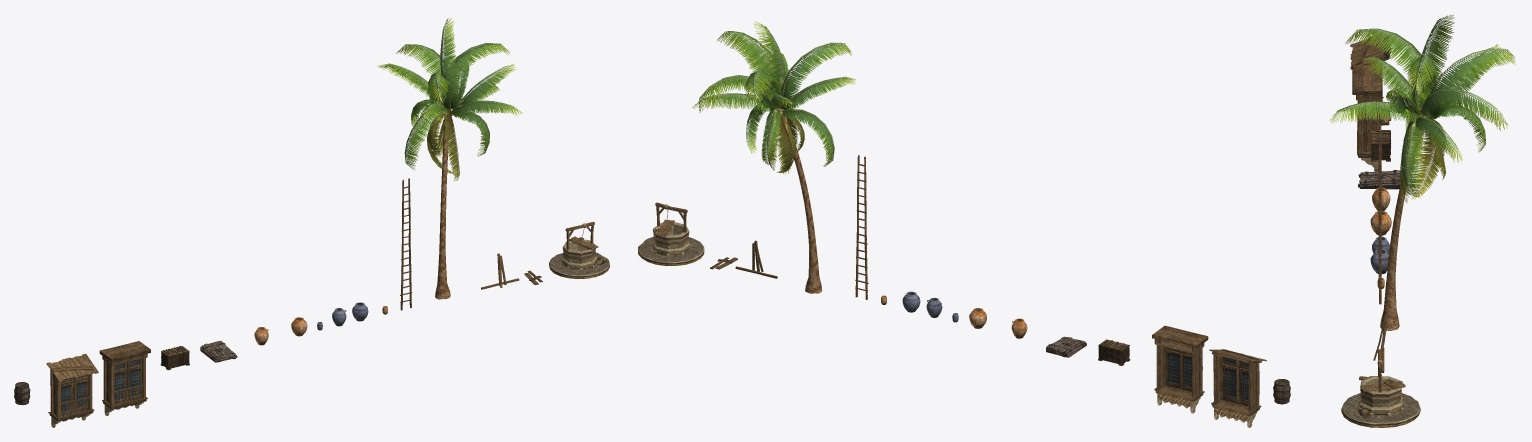
File: oriental_houses_04.fbx
3 views of the same model, side by side, from view 1: azimuth 30°, elevation 25°; view 2: azimuth 150°, elevation 25°; view 3: azimuth 270°, elevation 25° (orthographic). The views are drawn at different scales.
Parts seen in each view (by area): view 1: palm_01, bay_02, bay_01, well_01, ladder_01, chest_01; view 2: palm_01, bay_02, bay_01, well_01, ladder_01, chest_01; view 3: palm_01, well_01, bay_02, bay_01, hatch_01, ladder_01, chest_01, jar_01, jar_02, jar_03, plank_01.
Boxes of the visible parts, left/top/right/bottom form: palm_01: left=377, top=17, right=521, bottom=299; bay_02: left=99, top=341, right=150, bottom=415; bay_01: left=46, top=354, right=98, bottom=427; well_01: left=549, top=221, right=609, bottom=278; ladder_01: left=400, top=178, right=412, bottom=310; chest_01: left=160, top=346, right=189, bottom=370; palm_01: left=692, top=21, right=855, bottom=293; bay_02: left=1152, top=325, right=1208, bottom=413; bay_01: left=1209, top=349, right=1266, bottom=427; well_01: left=638, top=202, right=704, bottom=265; ladder_01: left=855, top=155, right=868, bottom=299; chest_01: left=1098, top=339, right=1130, bottom=365; palm_01: left=1329, top=14, right=1515, bottom=330; well_01: left=1341, top=349, right=1420, bottom=427; bay_02: left=1352, top=65, right=1382, bottom=171; bay_01: left=1350, top=35, right=1390, bottom=129; hatch_01: left=1358, top=170, right=1401, bottom=189; ladder_01: left=1378, top=130, right=1381, bottom=304; chest_01: left=1371, top=130, right=1390, bottom=161; jar_01: left=1370, top=211, right=1391, bottom=235; jar_02: left=1370, top=249, right=1388, bottom=274; jar_03: left=1372, top=187, right=1390, bottom=210; plank_01: left=1373, top=321, right=1386, bottom=372.
Size of the model in its own units: 1085 by 505 by 243.
